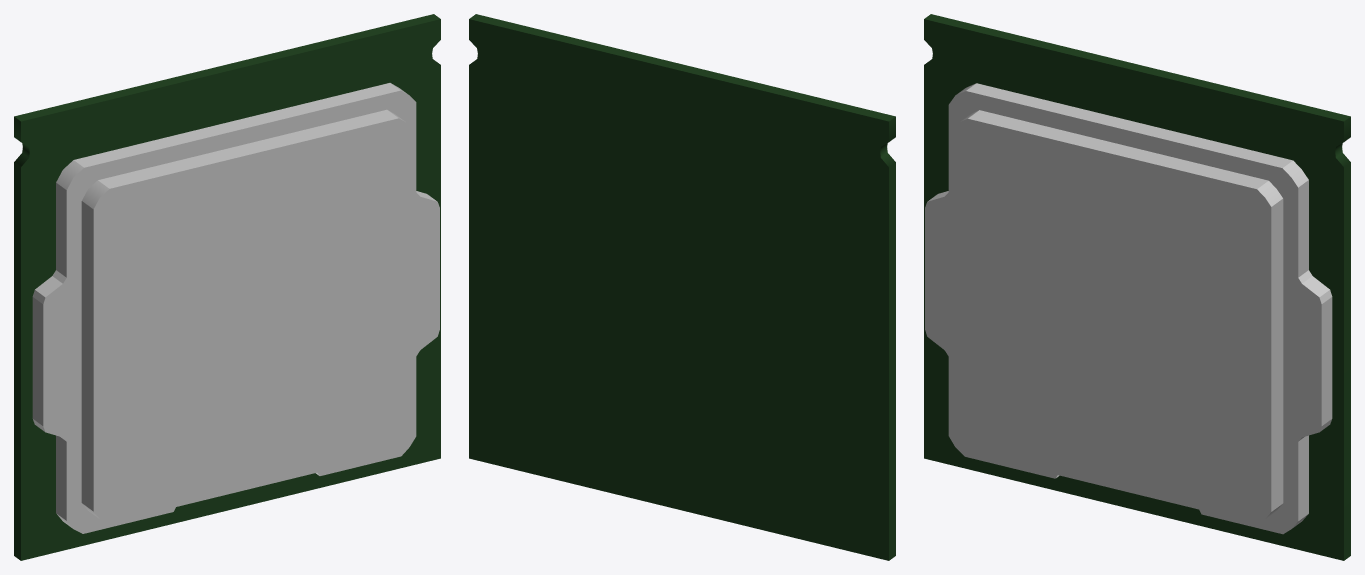
Rendered from sketchfab-intel-i7-9700k.glb.
The picture shows the model from 3 angles, left to right: view 1: azimuth 30°, elevation 25°; view 2: azimuth 150°, elevation 25°; view 3: azimuth 330°, elevation 25°; orthographic projection.
Visible parts, largest first — view 1: pCube841, pCube840; view 2: pCube840; view 3: pCube841, pCube840.
Boxes of the visible parts, x1,y1,x2,y2 form: pCube841: [32, 83, 439, 533]; pCube840: [14, 14, 440, 560]; pCube840: [469, 14, 895, 560]; pCube841: [925, 83, 1332, 534]; pCube840: [924, 14, 1350, 560].
Size of the model in its own units: 1.12 by 1.12 by 0.1363.
